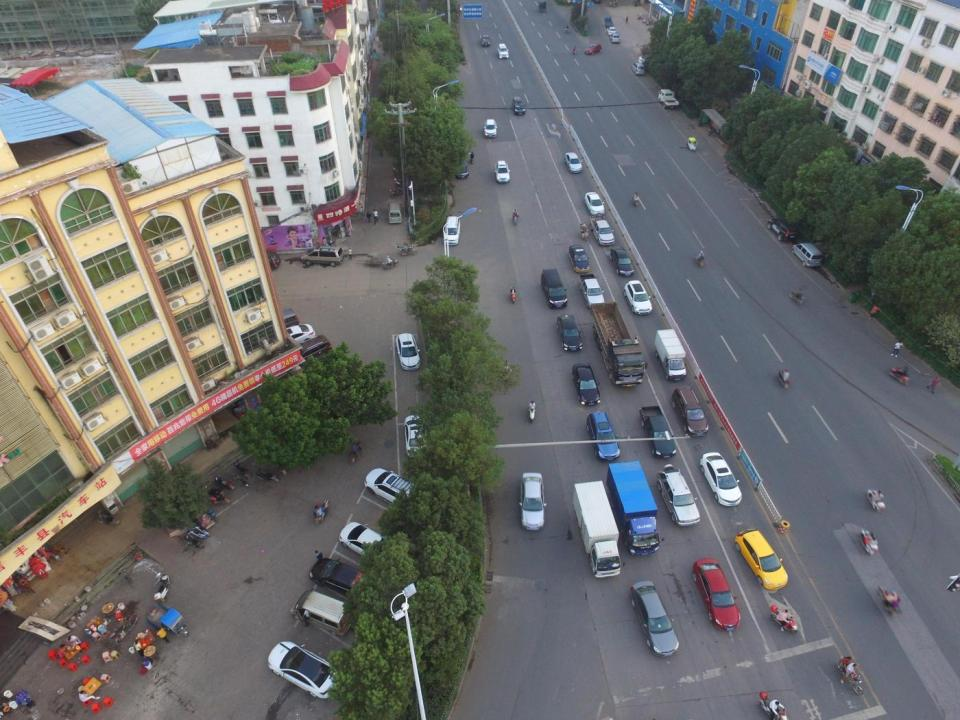car: (267, 640, 343, 699), (630, 581, 679, 657), (692, 557, 740, 631), (734, 528, 788, 590), (655, 464, 701, 526), (308, 557, 369, 601), (364, 467, 422, 509), (700, 452, 742, 506), (339, 521, 391, 562), (518, 471, 548, 531), (586, 411, 621, 460), (404, 414, 434, 458), (571, 362, 601, 405), (555, 313, 583, 351), (623, 280, 653, 315), (278, 323, 315, 351), (395, 333, 421, 370), (610, 246, 635, 276), (768, 218, 800, 241), (568, 244, 590, 272), (449, 150, 470, 179), (584, 192, 606, 215), (564, 152, 583, 173), (494, 160, 510, 183), (511, 96, 526, 115), (484, 118, 497, 138), (584, 42, 602, 55), (497, 42, 510, 59), (637, 53, 654, 63), (480, 34, 492, 46), (606, 26, 617, 36), (609, 34, 620, 43)
truck: (606, 460, 665, 556), (572, 480, 626, 577), (589, 301, 648, 387), (639, 406, 677, 459), (654, 328, 687, 382), (578, 273, 605, 308), (589, 214, 616, 245), (657, 88, 679, 109), (603, 16, 613, 28)
van: (290, 587, 355, 636), (670, 384, 710, 436), (294, 334, 332, 367), (540, 266, 567, 308), (264, 308, 300, 335), (300, 245, 344, 266), (791, 242, 823, 267), (251, 249, 281, 271), (443, 216, 461, 245), (387, 201, 403, 223), (630, 62, 646, 75)
